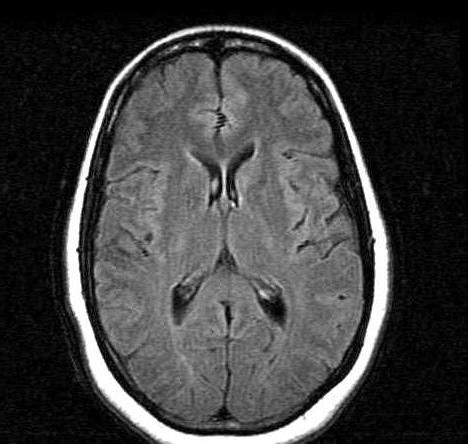Normal_Brain: (34, 1, 420, 444)
